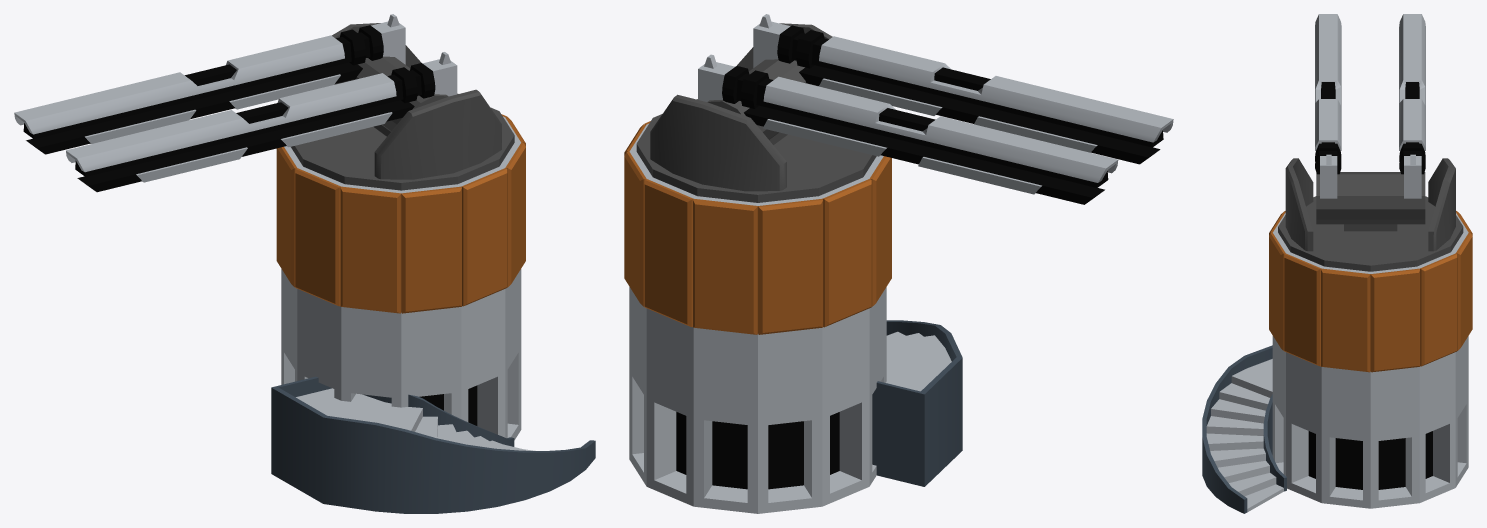
File: observatory_lvl2.2.fbx
3 views of the same model, side by side, from view 1: azimuth 30°, elevation 25°; view 2: azimuth 150°, elevation 25°; view 3: azimuth 270°, elevation 25° (orthographic). The views are drawn at different scales.
Visible parts, largest first — view 1: polySurface299, polySurface307, polySurface286, pCube58, polySurface291, polySurface305, polySurface309, polySurface304, polySurface292, polySurface296, polySurface290, polySurface302 (+9 smaller); view 2: polySurface307, polySurface299, pCube65, polySurface291, polySurface305, polySurface309, polySurface288, polySurface292, polySurface304, polySurface286, polySurface290, polySurface302 (+8 smaller); view 3: polySurface307, polySurface299, polySurface296, polySurface309, pCylinder7, polySurface305, polySurface291, polySurface286, pCube58, pCube65, polySurface295, polySurface290 (+3 smaller).
Boxes of the visible parts, left/top/right/bottom form: polySurface299: left=276, top=114, right=525, bottom=313; polySurface307: left=281, top=116, right=521, bottom=440; polySurface286: left=273, top=387, right=595, bottom=513; pCube58: left=374, top=89, right=501, bottom=179; polySurface291: left=66, top=73, right=396, bottom=172; polySurface305: left=14, top=35, right=344, bottom=134; polySurface309: left=291, top=93, right=514, bottom=190; polySurface304: left=26, top=62, right=362, bottom=154; polySurface292: left=77, top=100, right=414, bottom=192; polySurface296: left=296, top=388, right=535, bottom=450; polySurface290: left=75, top=63, right=435, bottom=176; polySurface302: left=23, top=25, right=383, bottom=138; polySurface307: left=629, top=123, right=886, bottom=513; polySurface299: left=624, top=121, right=891, bottom=334; pCube65: left=650, top=94, right=786, bottom=191; polySurface291: left=819, top=36, right=1173, bottom=142; polySurface305: left=763, top=76, right=1118, bottom=182; polySurface309: left=636, top=99, right=876, bottom=202; polySurface288: left=872, top=381, right=926, bottom=486; polySurface292: left=799, top=65, right=1160, bottom=164; polySurface304: left=744, top=105, right=1104, bottom=204; polySurface286: left=886, top=320, right=962, bottom=484; polySurface290: left=777, top=25, right=1163, bottom=147; polySurface302: left=722, top=66, right=1108, bottom=187; polySurface307: left=1272, top=213, right=1468, bottom=508; polySurface299: left=1269, top=211, right=1472, bottom=372; polySurface296: left=1206, top=359, right=1283, bottom=512; polySurface309: left=1278, top=196, right=1463, bottom=271; pCylinder7: left=1316, top=172, right=1425, bottom=231; polySurface305: left=1399, top=14, right=1425, bottom=150; polySurface291: left=1315, top=14, right=1341, bottom=150; polySurface286: left=1202, top=345, right=1272, bottom=513; pCube58: left=1285, top=158, right=1313, bottom=251; pCube65: left=1428, top=158, right=1455, bottom=251; polySurface295: left=1263, top=394, right=1286, bottom=491; polySurface290: left=1315, top=82, right=1341, bottom=174.
Size of the model in its own units: 1905 by 1507 by 1155.
